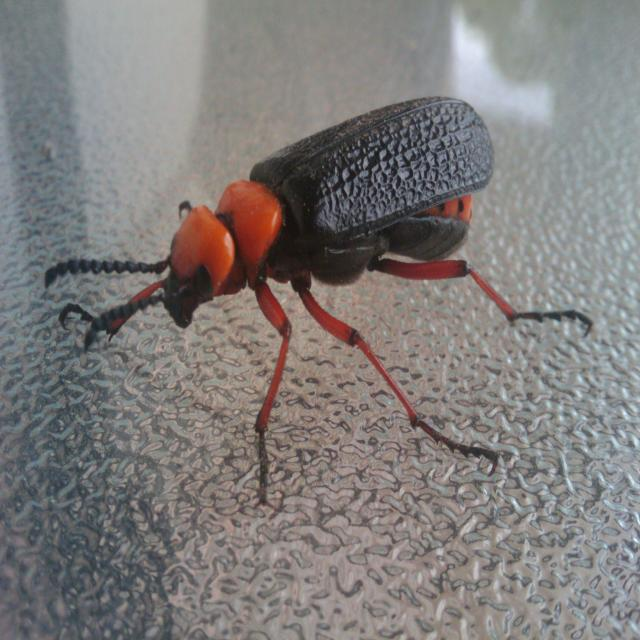BlisterBeetle-Adult-: (42, 91, 595, 509)
